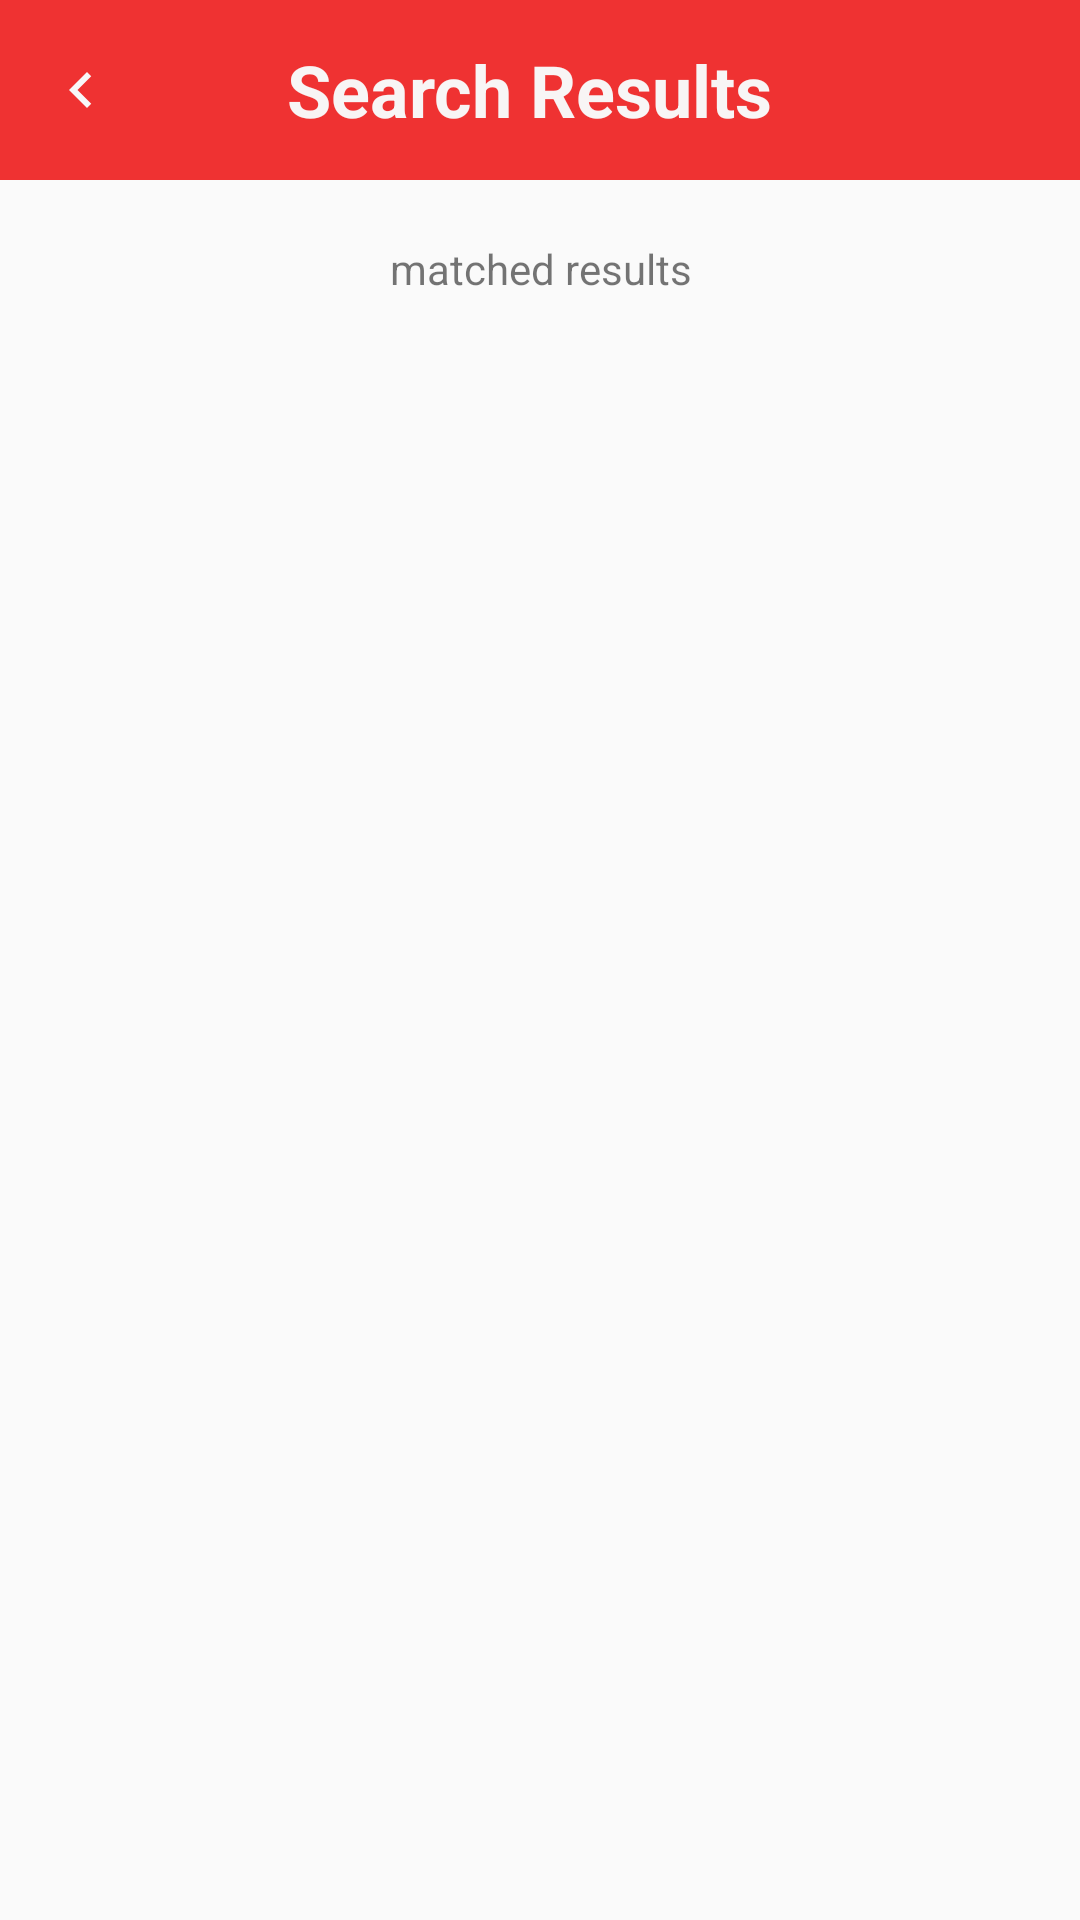

Icon bounding boxes for this 1080x1920 phone screenshot, format box(x1, y1, x2, y2):
navigate before: box(69, 72, 91, 108)
